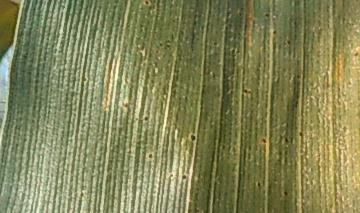tarspot: (187, 130, 199, 144), (178, 170, 190, 183), (280, 186, 291, 200), (296, 126, 307, 140), (258, 135, 270, 147), (141, 113, 151, 126), (262, 9, 272, 22), (146, 150, 155, 162), (269, 28, 279, 37), (142, 1, 154, 8)
